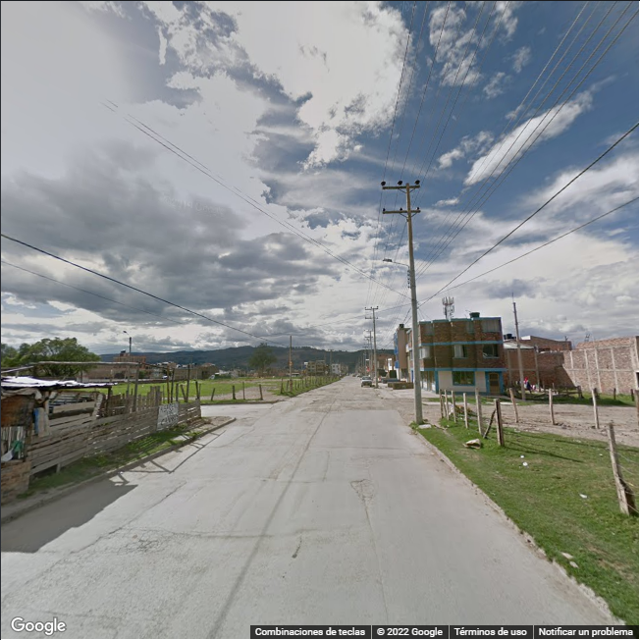D00: (361, 486, 389, 629)
D10: (13, 609, 126, 624)
D20: (93, 530, 176, 556)
